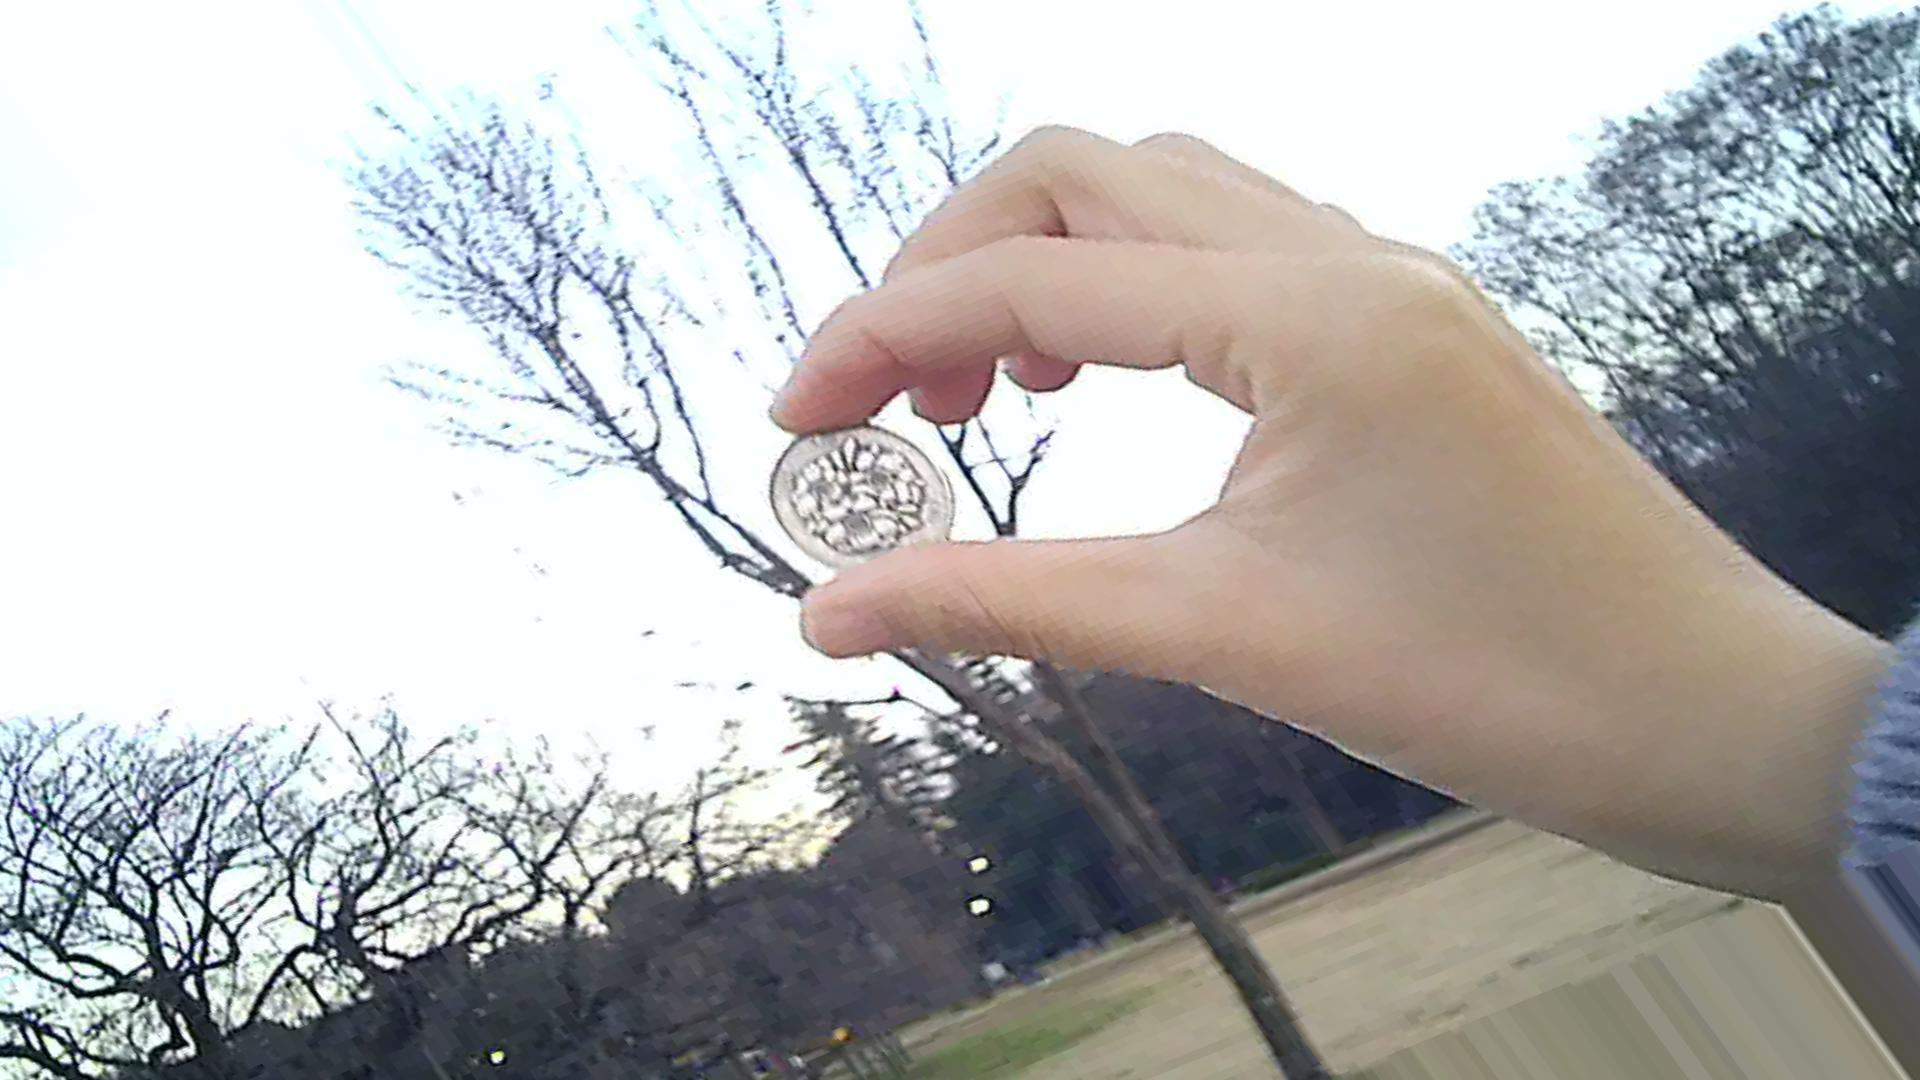100 Yen: (760, 419, 960, 564)
